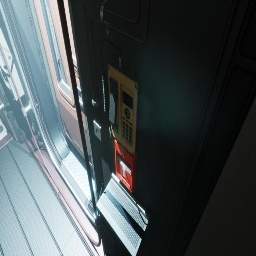EmergencyPhone ,: (100, 38, 141, 156)
FireAlarm ,: (114, 138, 137, 193)
SafetySwitchPanel ,: (0, 21, 25, 101)
